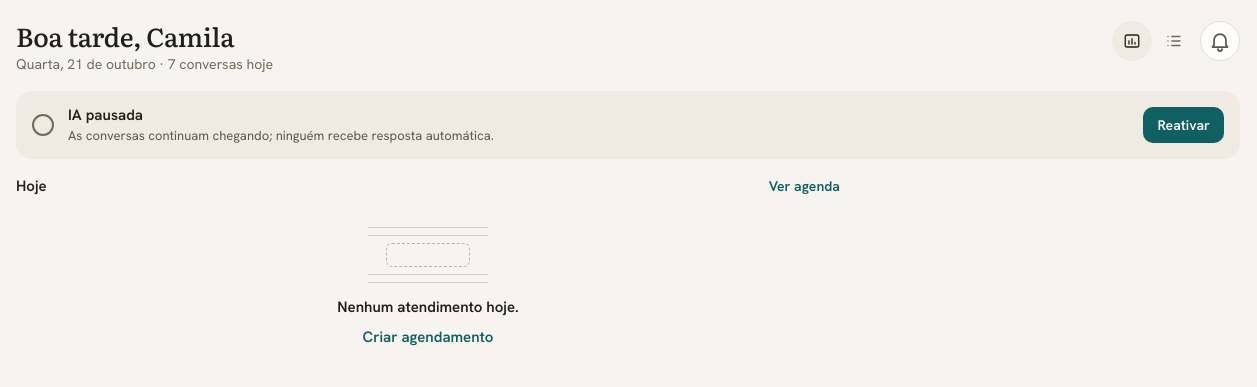
Goal117: IA pausada e Reativar (H5) › 409 AI_ACTIVATION_TEST_REQUIRED mostra a frase e o link para o teste real
Expected: the heading "Boa tarde, Camila" is shown, left=16, top=16, right=234, bottom=55
Step 1. Click the button "Reativar" → (1184, 125), box left=1143, top=103, right=1224, bottom=147
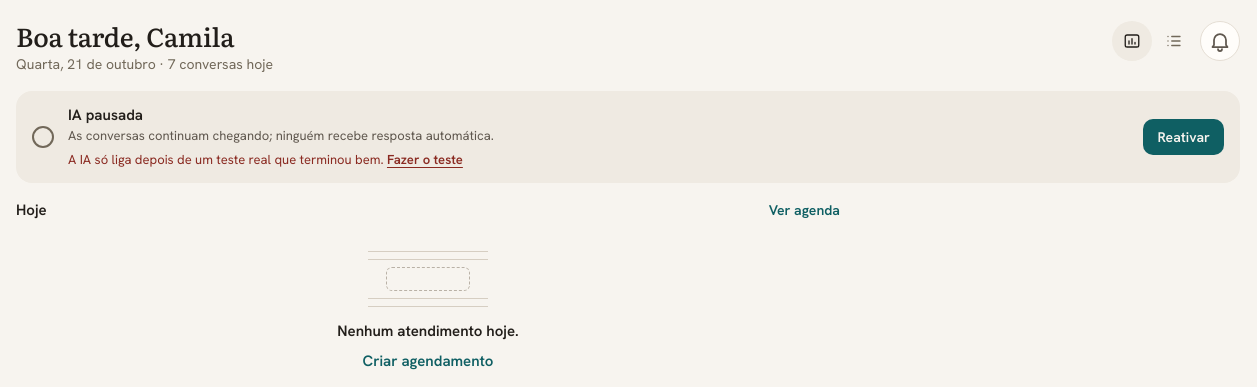
Now the number of messages is 1, box left=68, top=151, right=463, bottom=168
